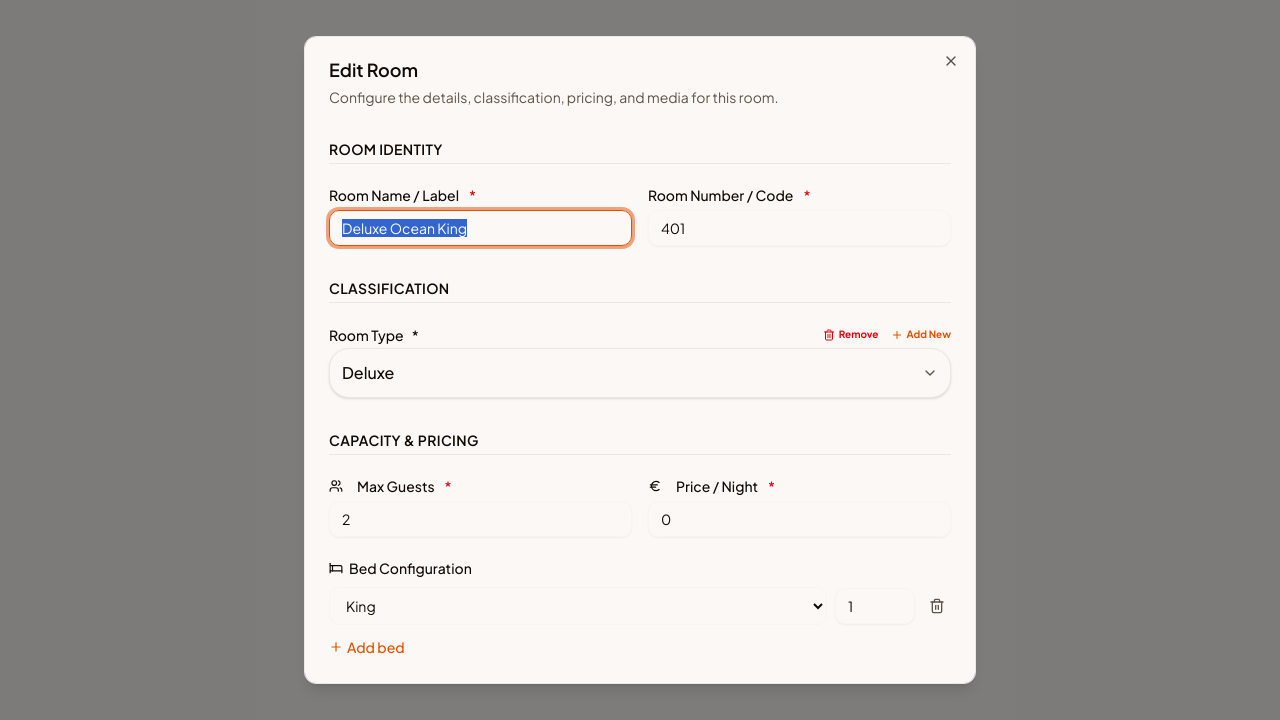
Test: HotelServicePointModal › shows inline required validation and focuses the first invalid field
The image size is (1280, 720).
Clear the field showing "Deluxe Ocean King" at coordinates (480, 228), box left=329, top=210, right=632, bottom=246
(page scrolled)
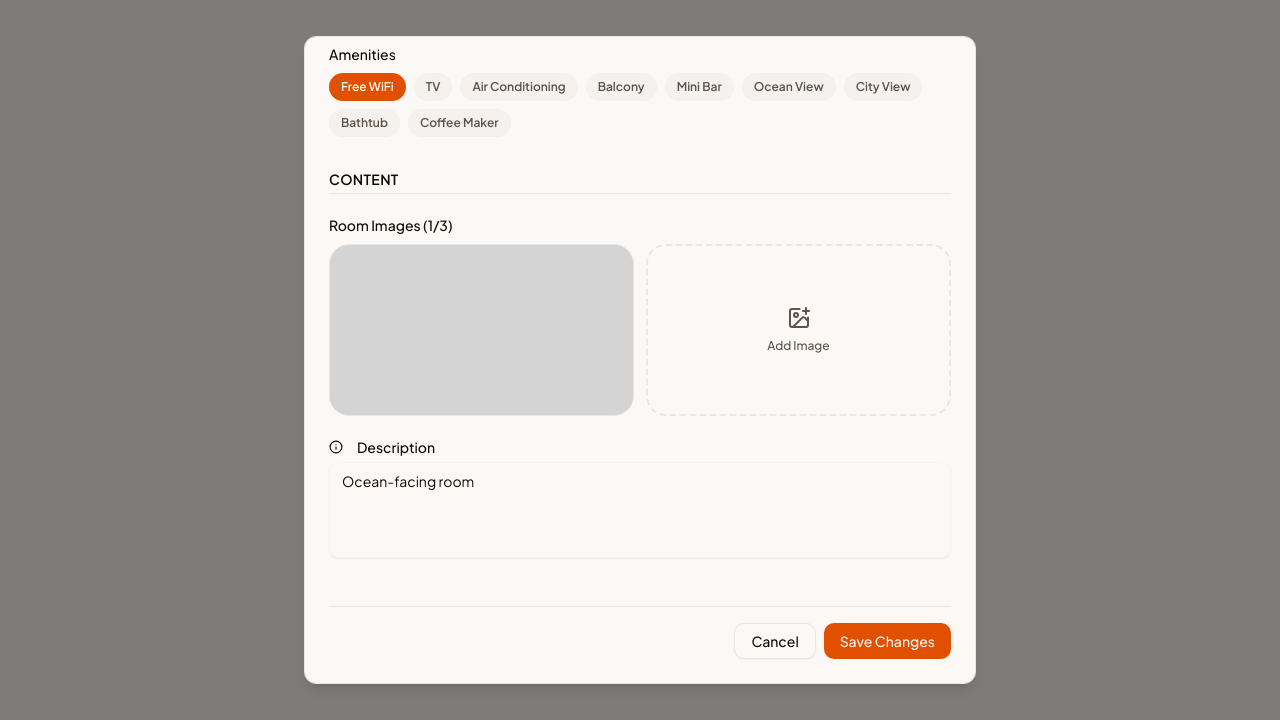
Click the button "Save Changes".
click(887, 641)  # box left=824, top=623, right=951, bottom=659
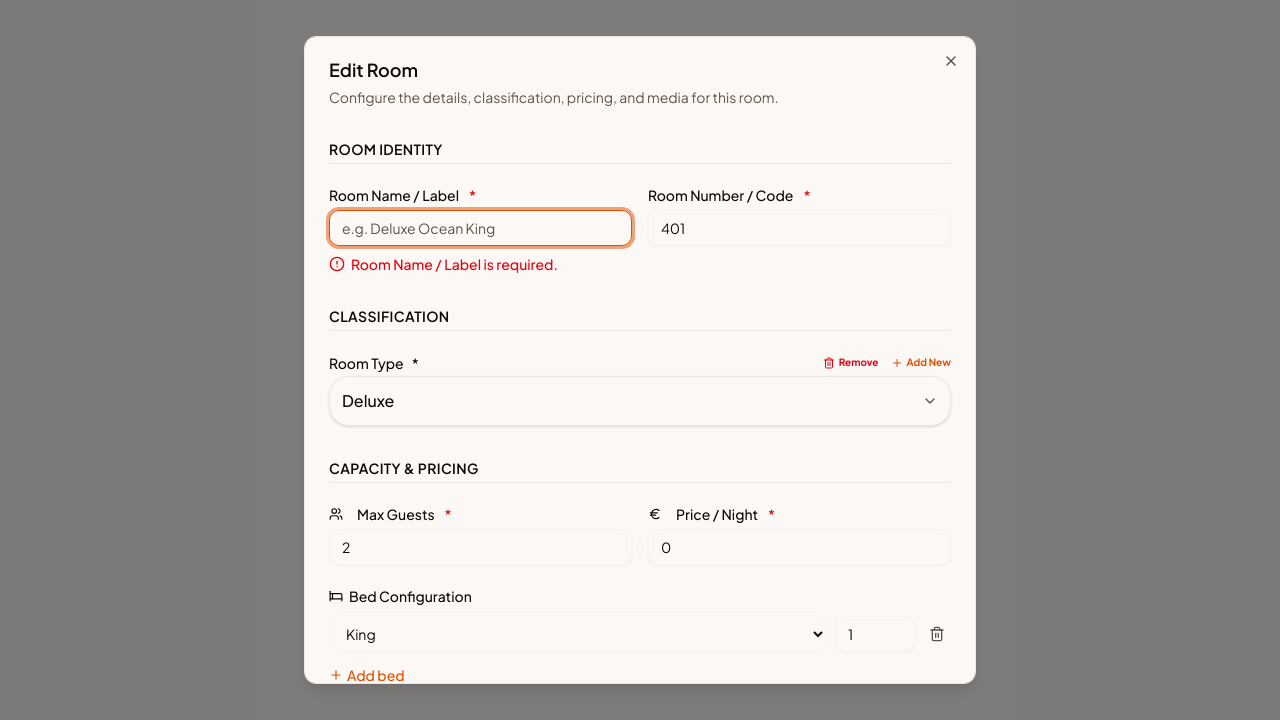
Now the text "Room Name / Label is required." is shown, box left=329, top=255, right=558, bottom=273
